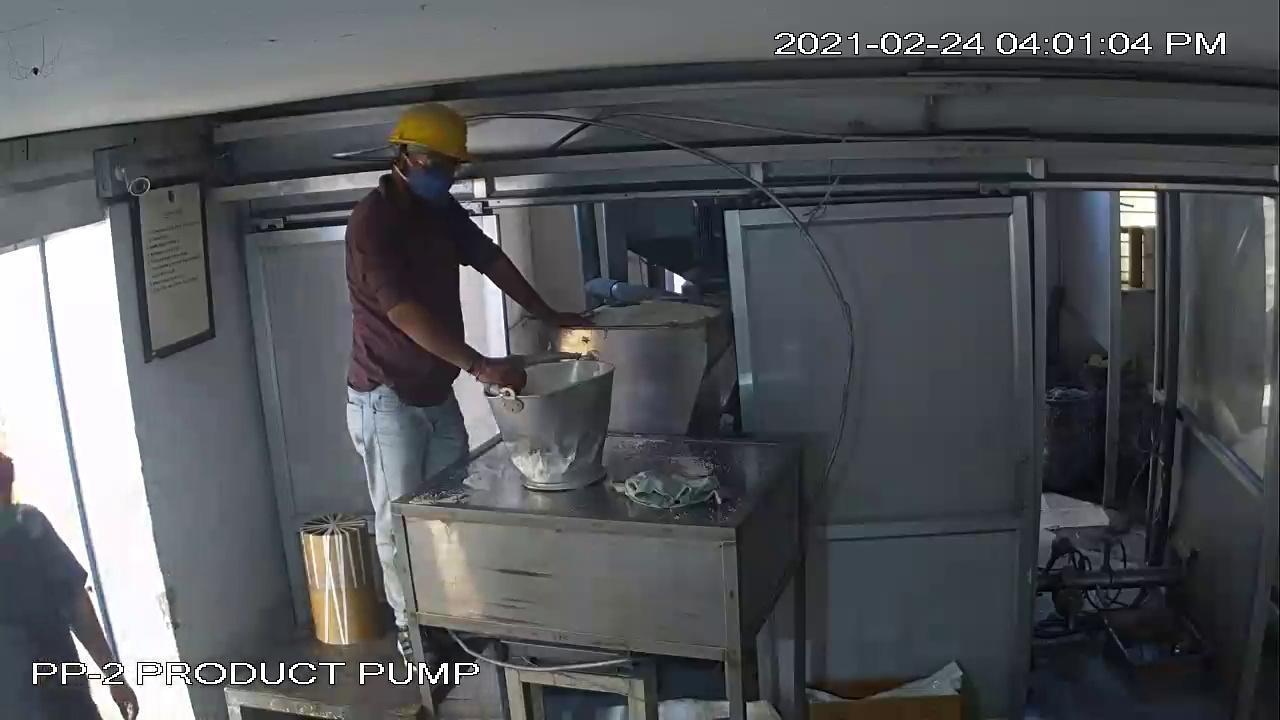helmet: (388, 98, 473, 167)
